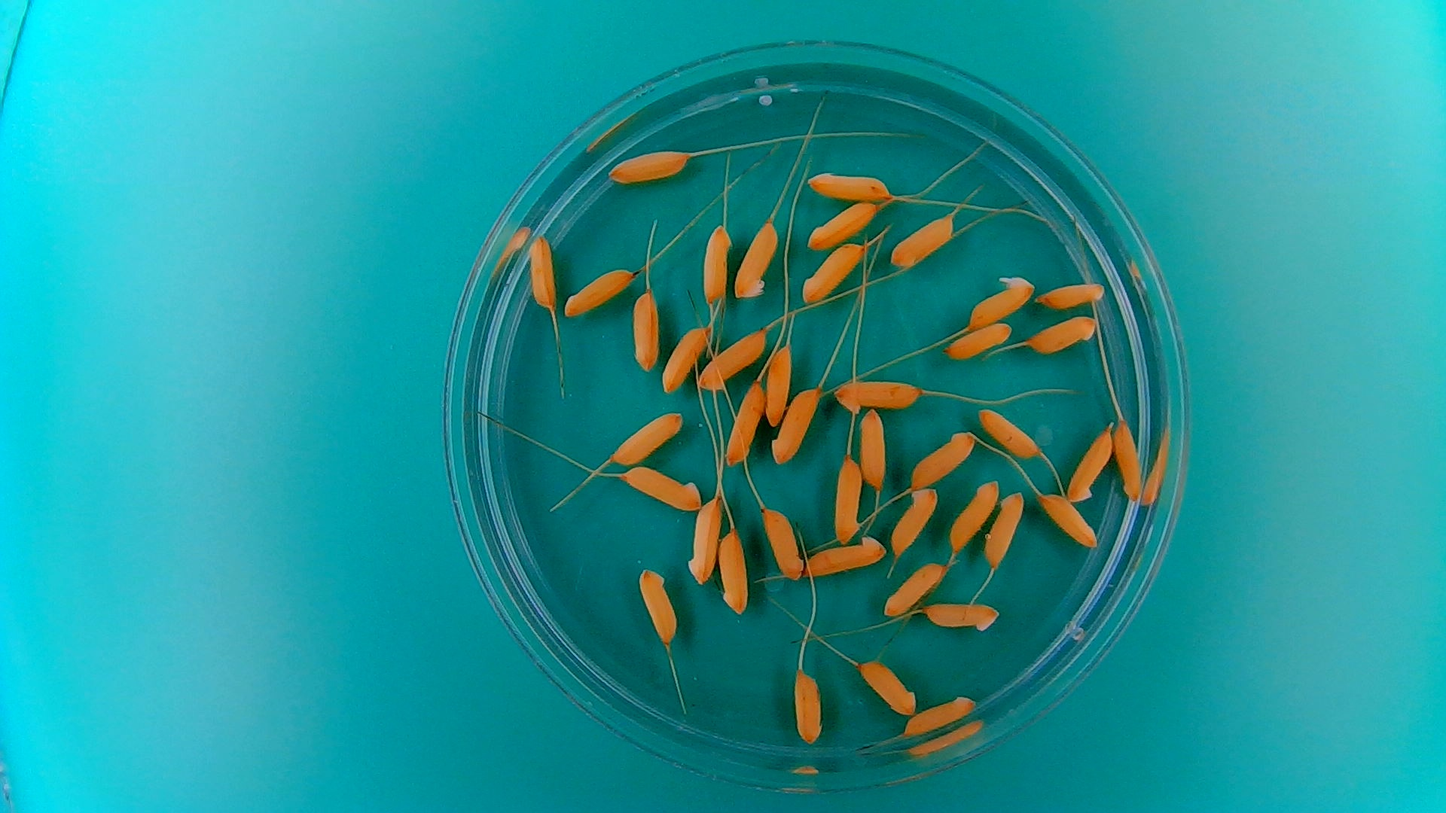no: (696, 325, 769, 395), (607, 408, 687, 468), (799, 240, 867, 305), (907, 429, 978, 491), (770, 383, 822, 467), (615, 464, 703, 513), (721, 377, 767, 468), (1064, 422, 1115, 504), (854, 653, 919, 717), (561, 265, 639, 318), (801, 534, 890, 580), (804, 200, 881, 253), (733, 217, 779, 303), (947, 477, 999, 553), (889, 212, 957, 270), (975, 404, 1045, 460), (1035, 492, 1100, 550), (605, 145, 692, 187), (889, 486, 939, 559), (882, 562, 947, 618), (832, 375, 923, 415), (760, 504, 805, 583), (659, 323, 709, 394), (981, 489, 1024, 571), (636, 564, 679, 646), (901, 693, 976, 739), (715, 528, 752, 619), (685, 496, 721, 589), (830, 455, 866, 545), (1026, 312, 1100, 355), (804, 168, 894, 202), (857, 405, 890, 494), (1112, 418, 1146, 503), (942, 320, 1012, 361), (700, 221, 733, 307), (525, 231, 559, 312), (630, 287, 662, 373), (790, 668, 825, 745), (762, 342, 793, 428), (924, 599, 1000, 633), (1036, 279, 1108, 313)
yes: (966, 272, 1038, 330)
